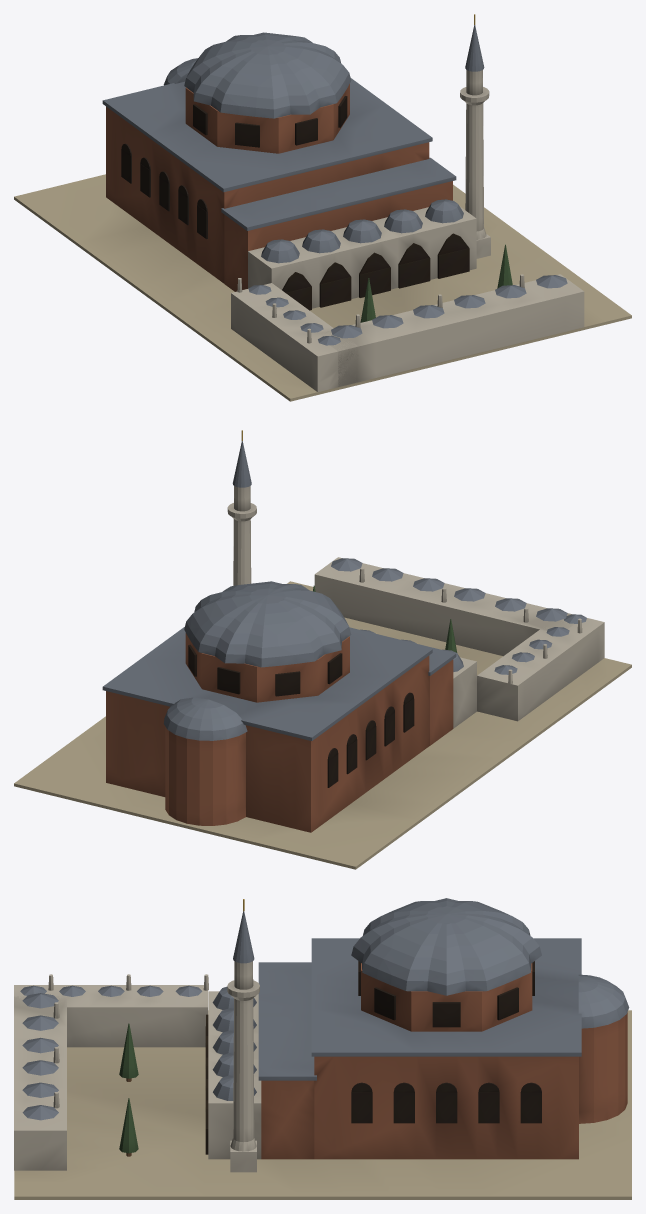
Rendered from little-hagia-sophia-mosque.glb.
3 renders of one model, top to bottom at view 1: azimuth 30°, elevation 25°; view 2: azimuth 150°, elevation 25°; view 3: azimuth 270°, elevation 25°, orthographic. The views are drawn at different scales.
Visible parts, largest first — view 1: p0_church, p2_medrese, p1_dome; view 2: p0_church, p2_medrese, p1_dome; view 3: p0_church, p2_medrese, p1_dome.
Part boxes in pixels (box(x1,y1,x2,y2)): p0_church: box(14, 58, 631, 401); p2_medrese: box(231, 14, 584, 391); p1_dome: box(184, 32, 351, 153); p0_church: box(14, 581, 631, 869); p2_medrese: box(227, 430, 604, 728); p1_dome: box(184, 581, 351, 702); p0_church: box(14, 938, 631, 1199); p2_medrese: box(14, 899, 261, 1172); p1_dome: box(351, 898, 541, 1031).
Size of the model in its own units: 50 by 33.84 by 70.03.
